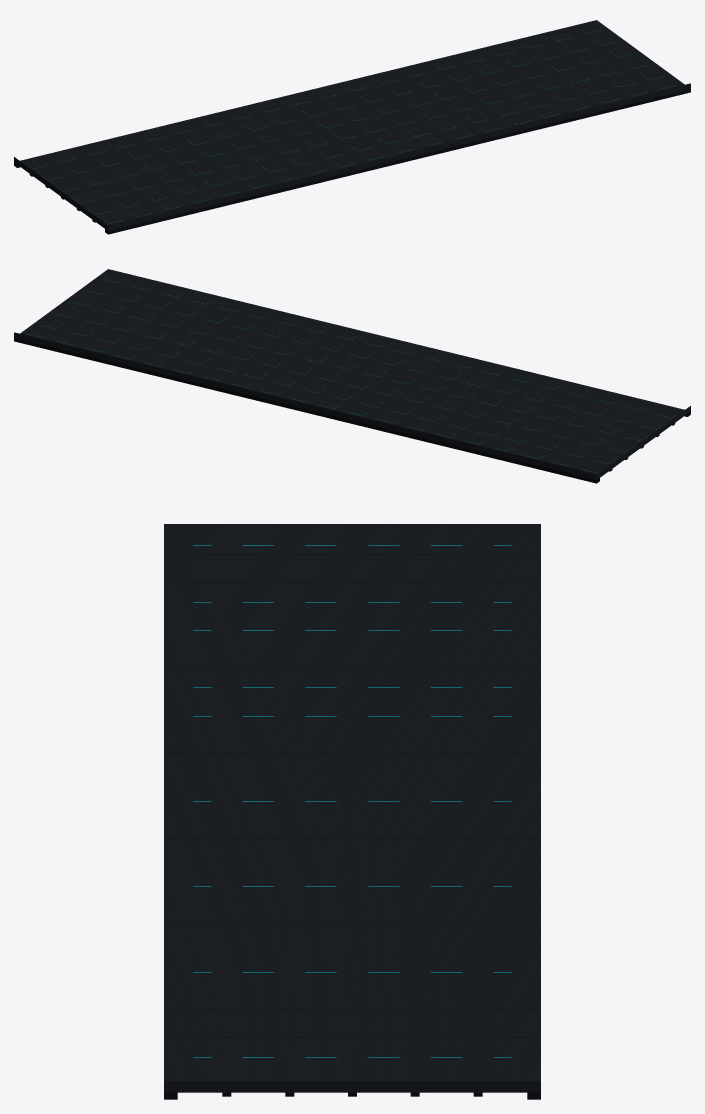
The model's file is tt_struct_diving_coffer.glb.
The picture shows the model from 3 angles, top to bottom: view 1: azimuth 30°, elevation 25°; view 2: azimuth 150°, elevation 25°; view 3: azimuth 270°, elevation 25°; orthographic projection. The views are drawn at different scales.
Parts seen in each view (by area): view 1: Coffer_Plate, Coffer_Ribs; view 2: Coffer_Plate, Coffer_Ribs; view 3: Coffer_Plate, Coffer_Ribs, Coffer_Lights.
Boxes of the visible parts, <box> form: Coffer_Plate: <box>14,20,690,230</box>; Coffer_Ribs: <box>14,39,690,234</box>; Coffer_Plate: <box>14,269,690,479</box>; Coffer_Ribs: <box>14,288,690,483</box>; Coffer_Plate: <box>164,524,540,1092</box>; Coffer_Ribs: <box>164,554,540,1099</box>; Coffer_Lights: <box>193,545,511,1057</box>.
Size of what is drawn, in the model's own units: 30 by 0.45 by 8.4.
3 materials, 2 textured.
